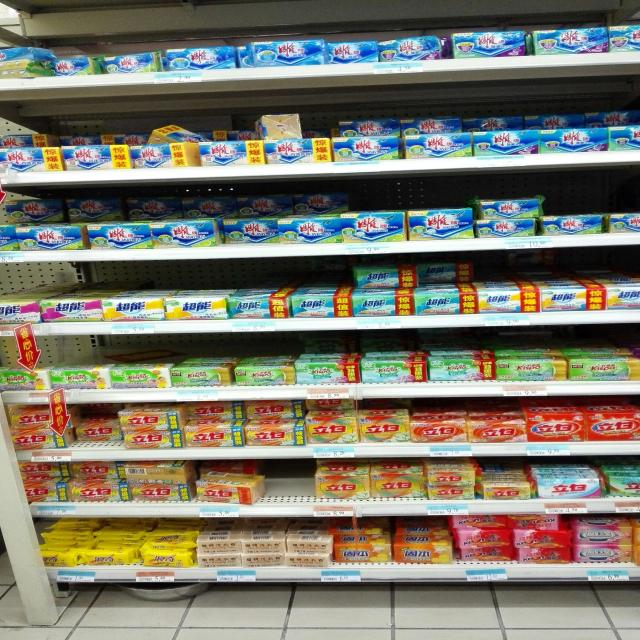void: (284, 458, 309, 518), (260, 458, 280, 517), (616, 22, 638, 63)
